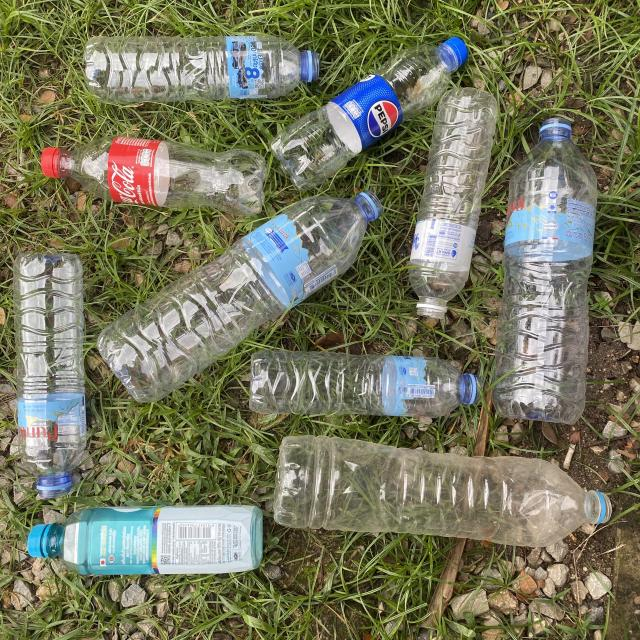plastik: (98, 191, 381, 402), (274, 436, 610, 545), (492, 118, 598, 424), (270, 38, 469, 190), (409, 88, 498, 319), (41, 136, 266, 215), (14, 254, 86, 499), (28, 505, 262, 575), (85, 36, 319, 104), (250, 350, 481, 418)
